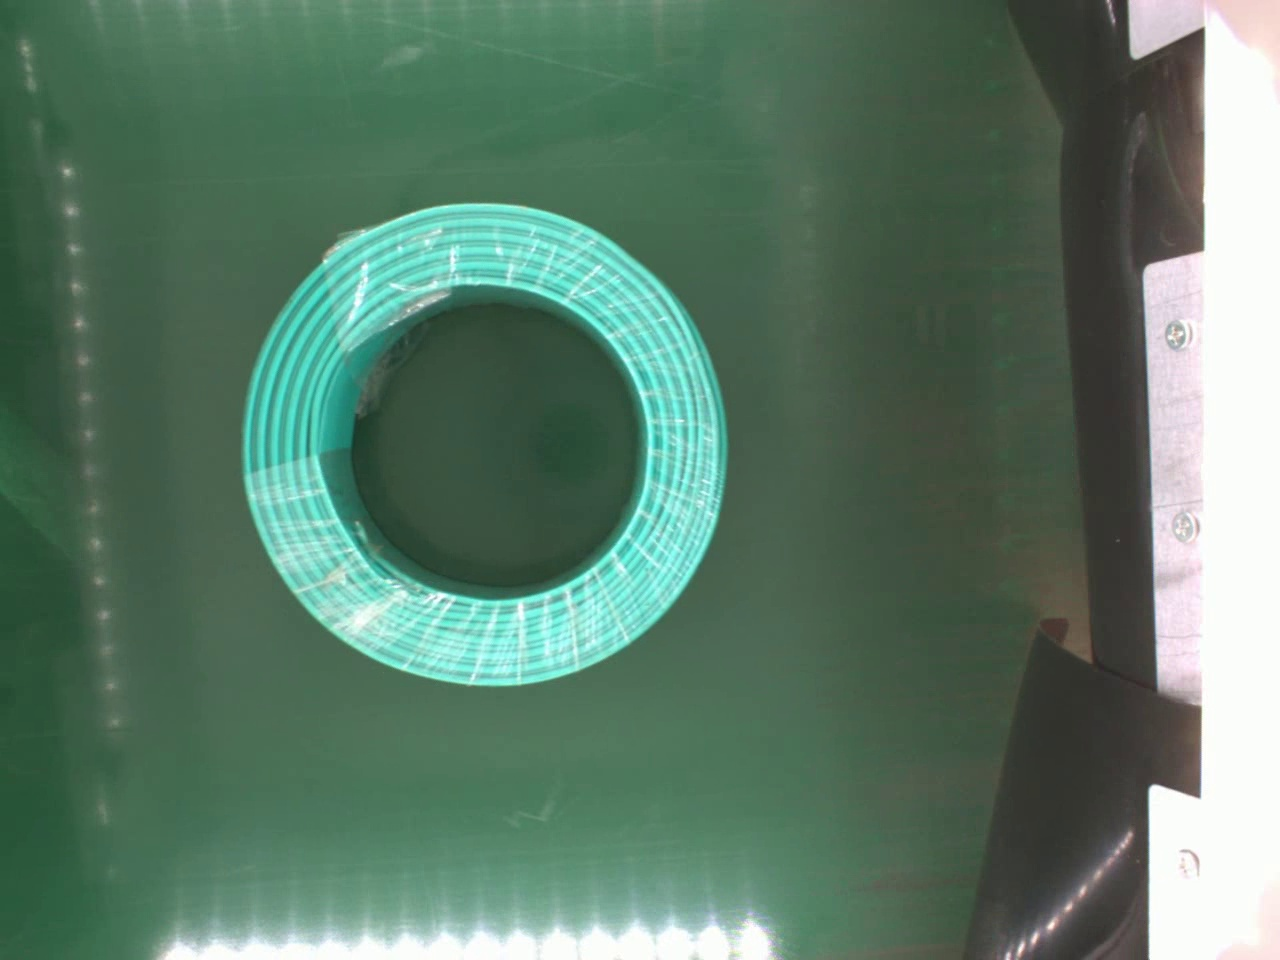green: (239, 199, 730, 694)
